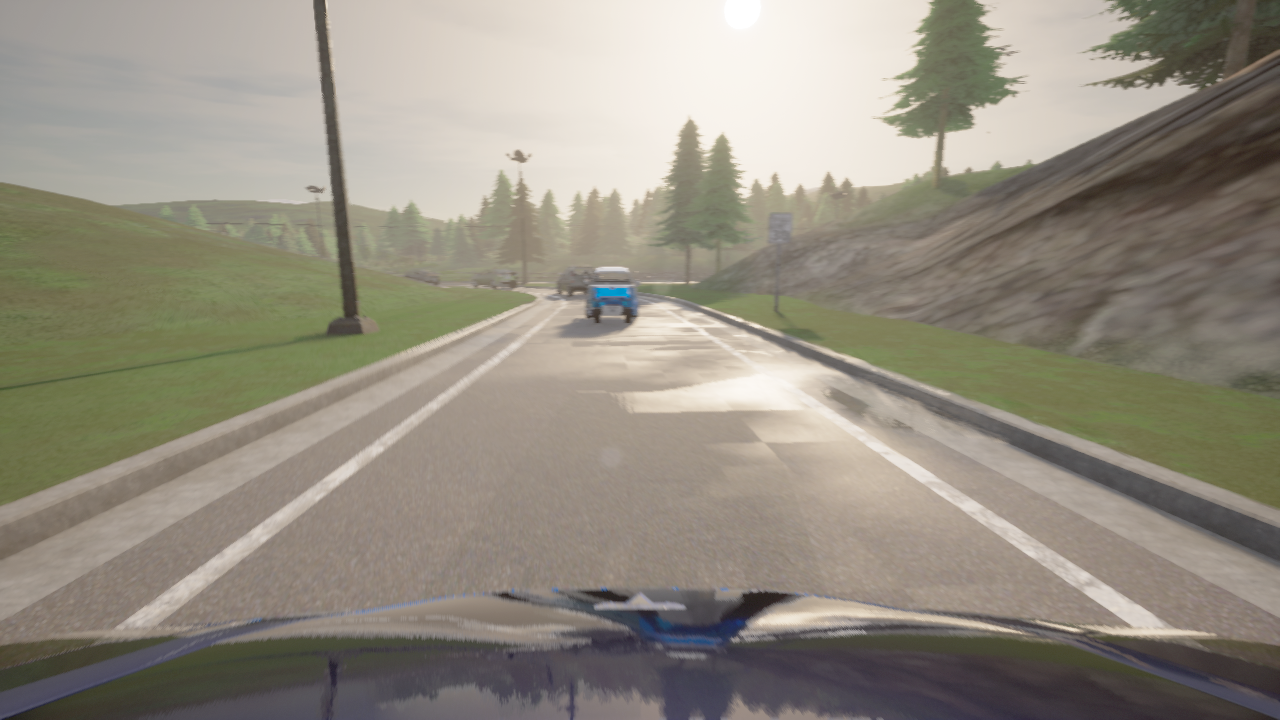cyclist: (0, 588, 1279, 719), (584, 266, 639, 324), (557, 265, 595, 296), (471, 269, 516, 288), (400, 270, 440, 285)
